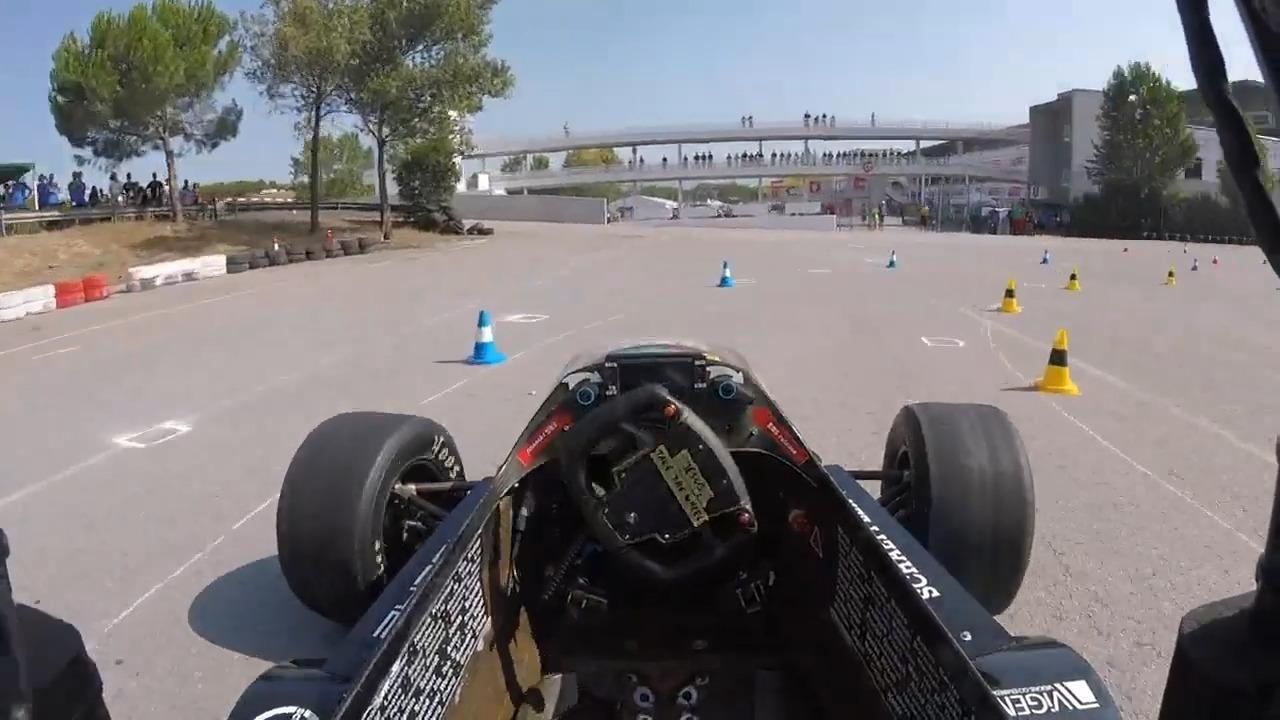blue_cone: (470, 311, 506, 371), (717, 259, 735, 291), (883, 247, 901, 270), (1039, 248, 1053, 265), (1190, 258, 1199, 271)
orange_cone: (1212, 255, 1219, 265)
yellow_cone: (1039, 334, 1083, 392), (998, 282, 1023, 317), (1065, 268, 1084, 291), (1162, 268, 1177, 287)
